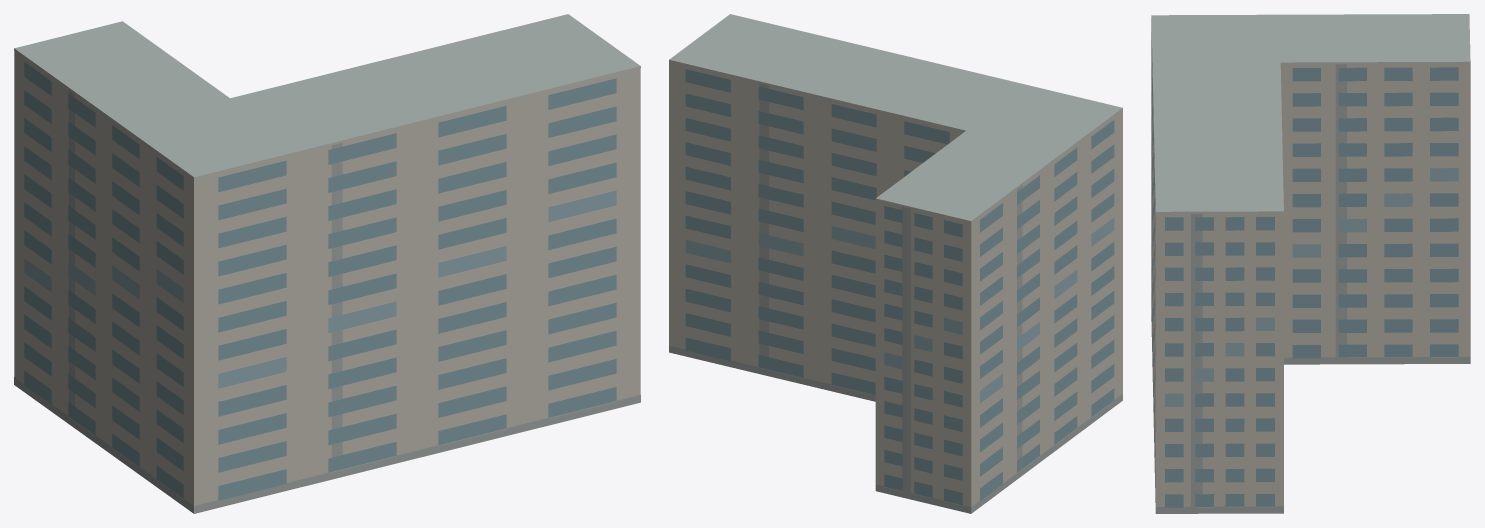
Rendered from residential-19e3e967-b4e0-4323-95ae-fed54920ec4a.glb.
3 views of the same model, side by side, from view 1: azimuth 30°, elevation 25°; view 2: azimuth 150°, elevation 25°; view 3: azimuth 270°, elevation 25° (orthographic). The views are drawn at different scales.
Parts seen in each view (by area): view 1: residential-19e3e967-b4e0-4323-95ae-fed54920ec4a.tmp; view 2: residential-19e3e967-b4e0-4323-95ae-fed54920ec4a.tmp; view 3: residential-19e3e967-b4e0-4323-95ae-fed54920ec4a.tmp.
Boxes of the visible parts, x1=… form: residential-19e3e967-b4e0-4323-95ae-fed54920ec4a.tmp: x1=14, y1=14, x2=640, y2=513; residential-19e3e967-b4e0-4323-95ae-fed54920ec4a.tmp: x1=669, y1=14, x2=1122, y2=513; residential-19e3e967-b4e0-4323-95ae-fed54920ec4a.tmp: x1=1151, y1=14, x2=1470, y2=513.
Bounding box in the file's own units: 49.18 × 35 × 33.52.
